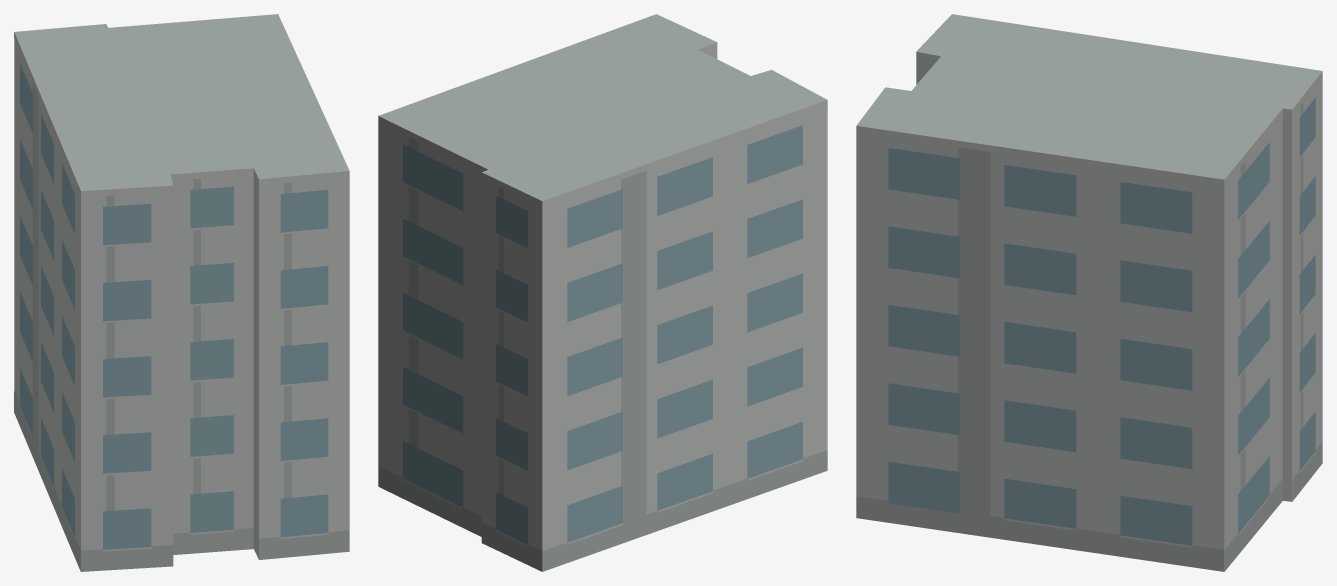
The model's file is survey-upis-32883619.glb.
3 views of the same model, side by side, from view 1: azimuth 30°, elevation 25°; view 2: azimuth 150°, elevation 25°; view 3: azimuth 270°, elevation 25° (orthographic). The views are drawn at different scales.
Visible parts, largest first — view 1: survey-upis-32883619.tmp; view 2: survey-upis-32883619.tmp; view 3: survey-upis-32883619.tmp.
Boxes of the visible parts, x1,y1,x2,y2 form: survey-upis-32883619.tmp: (14, 14, 349, 571); survey-upis-32883619.tmp: (378, 14, 827, 571); survey-upis-32883619.tmp: (856, 14, 1322, 571).
Bounding box in the file's own units: 12.96 × 14.3 × 15.42.
